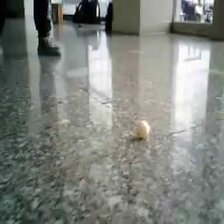w: (136, 119, 150, 138)
